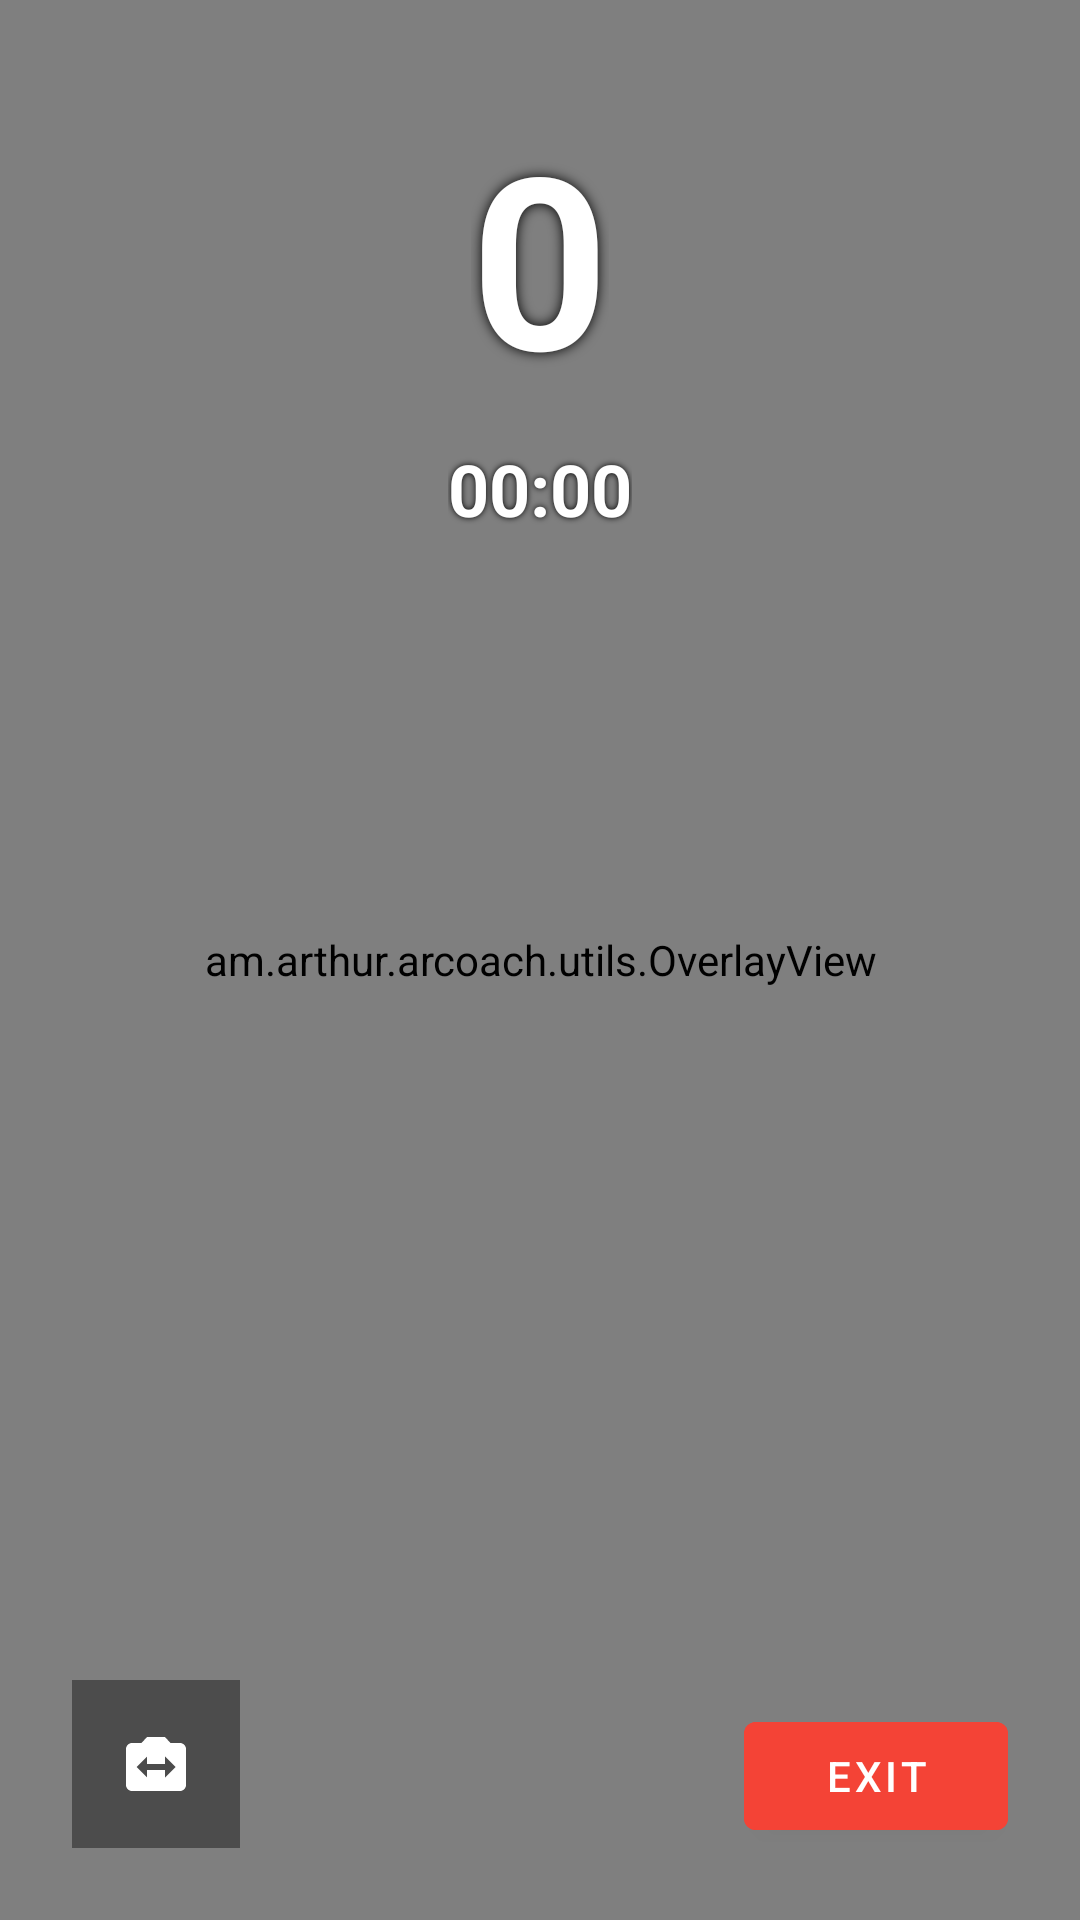

Where icons sit on this 1080w x 1920h app screen, as {"x1": x1, "y1": y1, "x2": x2, "y2": y2}:
Switch Camera: {"x1": 72, "y1": 1680, "x2": 240, "y2": 1848}
